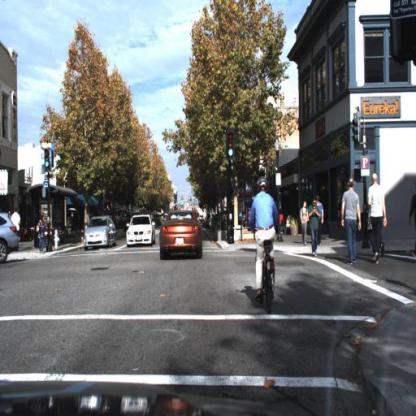biker: (250, 175, 284, 319)
car: (159, 207, 205, 263), (81, 213, 118, 255), (124, 211, 157, 248), (1, 209, 20, 266)
pedestrian: (341, 174, 363, 272), (367, 171, 389, 263), (367, 169, 387, 269), (342, 178, 364, 264), (369, 190, 385, 260), (308, 197, 322, 259), (35, 213, 49, 254), (300, 199, 310, 247), (37, 215, 49, 252), (11, 206, 22, 238)
trafficLight: (226, 130, 237, 162), (44, 149, 51, 172)
trafficLight-Green: (43, 148, 52, 171)
